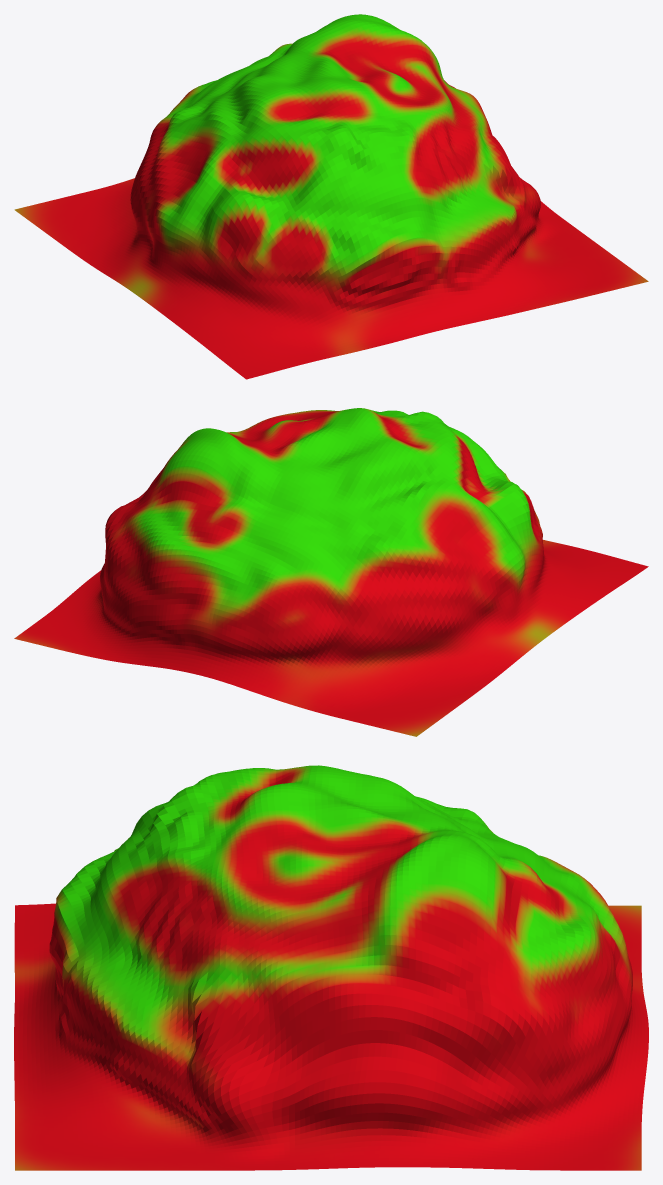
The model's file is spooky island.fbx.
3 views of the same model, one above another, from view 1: azimuth 30°, elevation 25°; view 2: azimuth 150°, elevation 25°; view 3: azimuth 270°, elevation 25° (orthographic). The views are drawn at different scales.
Parts seen in each view (by area): view 1: Plane; view 2: Plane; view 3: Plane.
Boxes of the visible parts, x1=… form: Plane: x1=14, y1=14, x2=648, y2=379; Plane: x1=14, y1=408, x2=648, y2=736; Plane: x1=14, y1=765, x2=648, y2=1170.
Size of the model in its own units: 27483 by 11499 by 27442.
